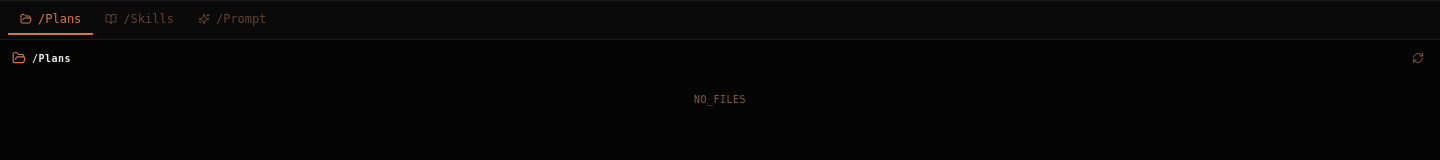
it: PlansPanelTabs › shows error message for skills when skills tab active
What coordinates should you click on to do the following:
click the button "/Skills"
I would click on:
 (140, 20)
Its box is [93,5,186,35].
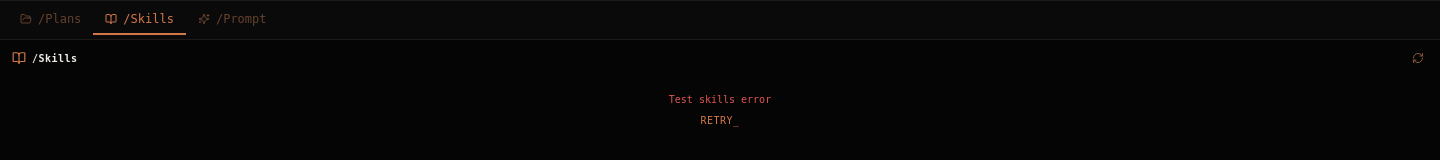
Check: the text "Test skills error" is shown, box [669,94,771,105]
